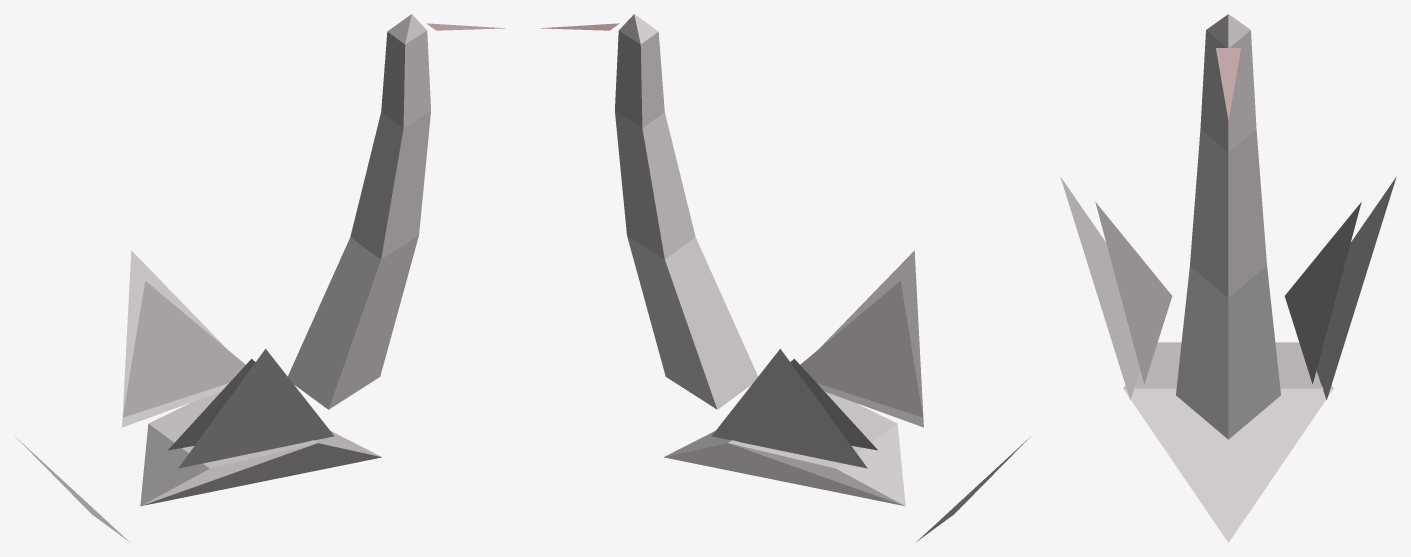
The model's file is regr_origami_swan.obj.
The picture shows the model from 3 angles, left to right: view 1: azimuth 30°, elevation 25°; view 2: azimuth 150°, elevation 25°; view 3: azimuth 270°, elevation 25°; orthographic projection. The views are drawn at different scales.
Visible parts, largest first — view 1: origami_swan; view 2: origami_swan; view 3: origami_swan.
Boxes of the visible parts, bbox=[...] form: origami_swan: bbox=[15, 14, 504, 541]; origami_swan: bbox=[541, 14, 1030, 541]; origami_swan: bbox=[1060, 14, 1396, 542].
Bounding box in the file's own units: 0.1224 × 0.1044 × 0.0576.
